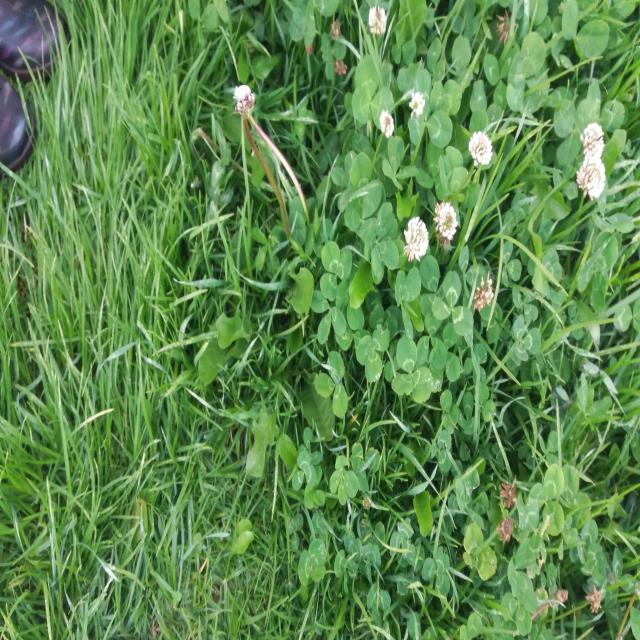Four Leaf Clover: (364, 202, 399, 279)
